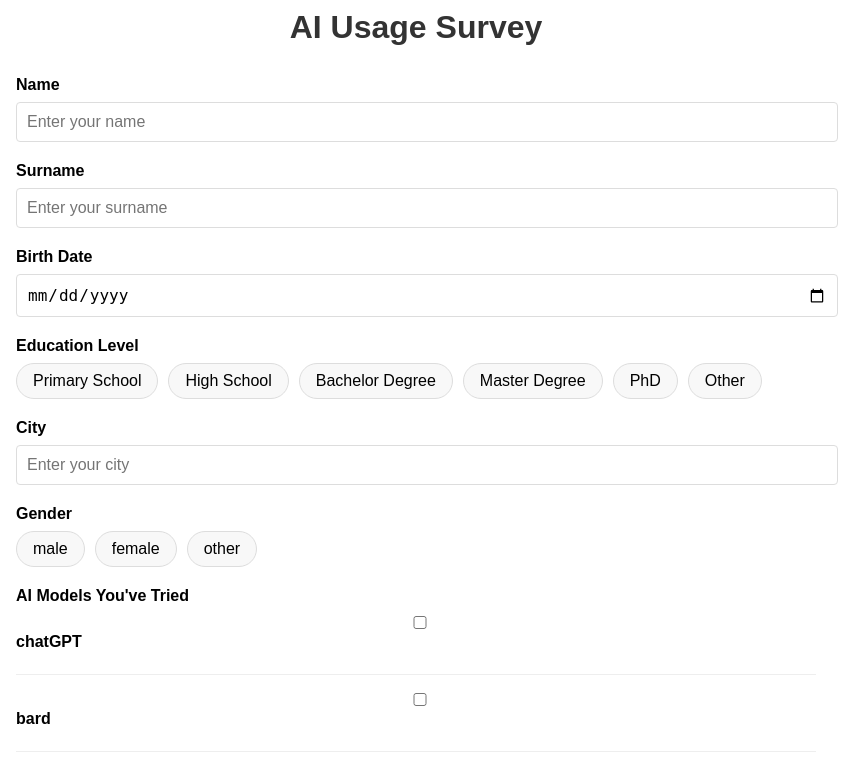
Test: SurveyPage Component › should show AI model description field when a model is selected
Expected: the field with placeholder "Describe chatGPT defects" is not shown
Select chatGPT
Click the checkbox labelled "chatGPT".
click(420, 623)  # box [20,616,820,629]
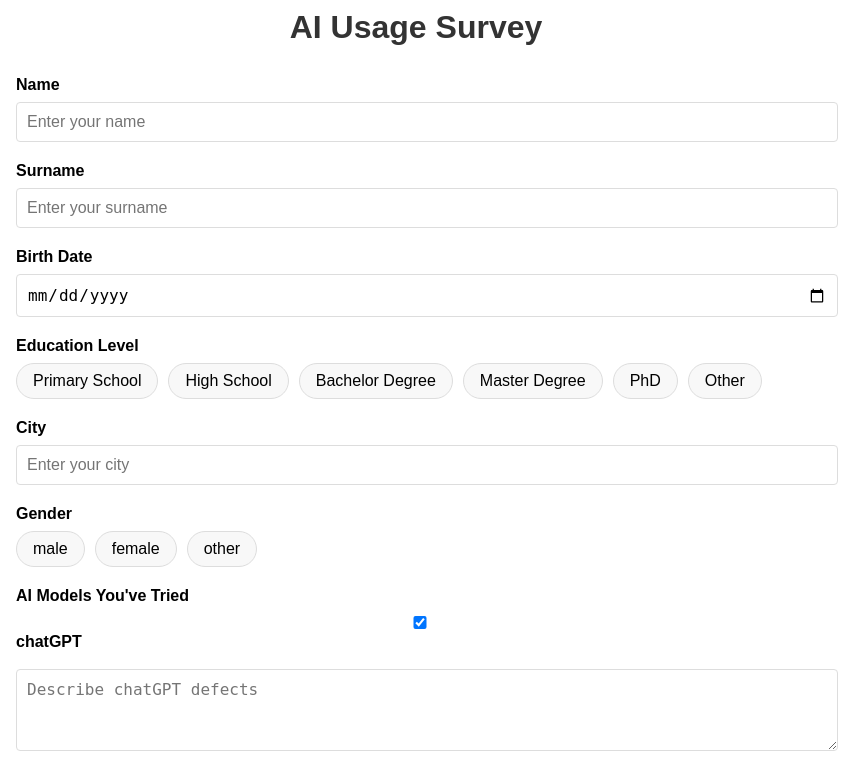
Now the text box with placeholder "Describe chatGPT defects" is shown, box [16,669,838,751]
